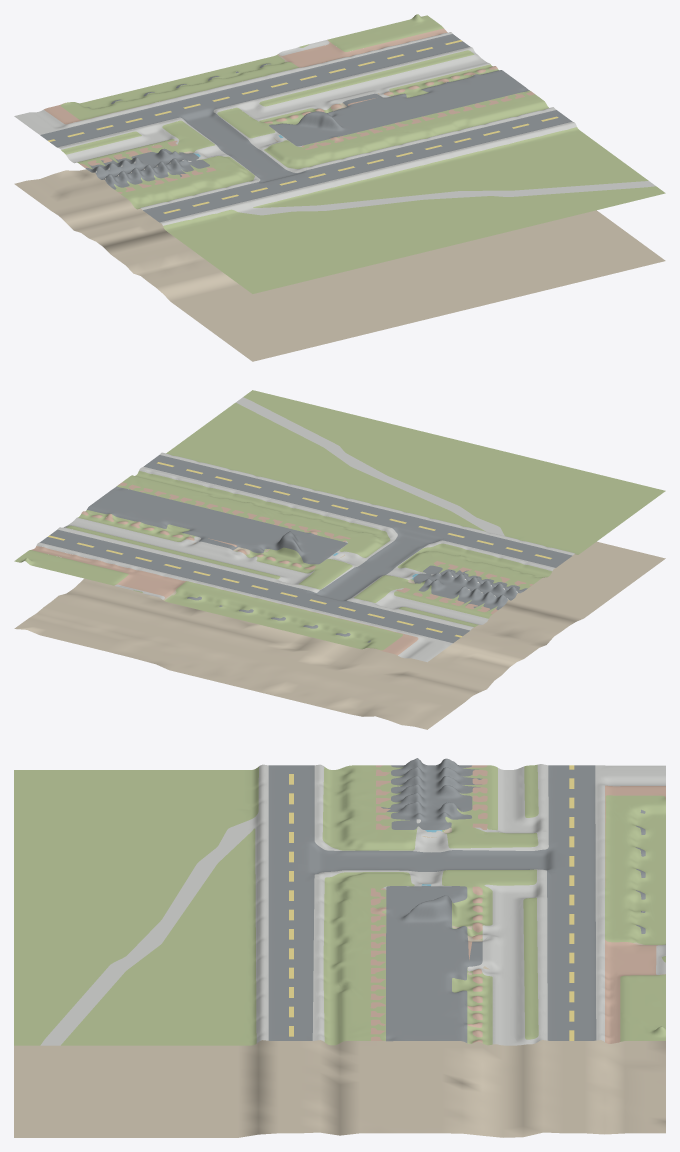
3 renders of one model, top to bottom at view 1: azimuth 30°, elevation 25°; view 2: azimuth 150°, elevation 25°; view 3: azimuth 270°, elevation 25°, orthographic. The views are drawn at different scales.
Parts seen in each view (by area): view 1: s_-6_5__grass, s_-6_5__soil, s_-6_5__asphalt, s_-6_5__stone_paving, s_-6_5__brick_paving, s_-6_5__yellow_marking; view 2: s_-6_5__grass, s_-6_5__soil, s_-6_5__asphalt, s_-6_5__stone_paving, s_-6_5__brick_paving, s_-6_5__yellow_marking; view 3: s_-6_5__grass, s_-6_5__soil, s_-6_5__asphalt, s_-6_5__stone_paving, s_-6_5__brick_paving, s_-6_5__yellow_marking.
Boxes of the visible parts, x1=… form: s_-6_5__grass: x1=60, y1=14, x2=665, y2=293; s_-6_5__soil: x1=14, y1=54, x2=665, y2=361; s_-6_5__asphalt: x1=40, y1=34, x2=572, y2=222; s_-6_5__stone_paving: x1=14, y1=32, x2=655, y2=225; s_-6_5__brick_paving: x1=44, y1=28, x2=534, y2=193; s_-6_5__yellow_marking: x1=48, y1=40, x2=558, y2=213; s_-6_5__grass: x1=14, y1=390, x2=665, y2=650; s_-6_5__soil: x1=14, y1=535, x2=665, y2=729; s_-6_5__asphalt: x1=40, y1=455, x2=572, y2=642; s_-6_5__stone_paving: x1=36, y1=397, x2=575, y2=662; s_-6_5__brick_paving: x1=31, y1=482, x2=532, y2=655; s_-6_5__yellow_marking: x1=48, y1=462, x2=551, y2=637; s_-6_5__grass: x1=14, y1=764, x2=665, y2=1045; s_-6_5__soil: x1=14, y1=827, x2=665, y2=1137; s_-6_5__asphalt: x1=268, y1=758, x2=645, y2=1042; s_-6_5__stone_paving: x1=40, y1=764, x2=665, y2=1045; s_-6_5__brick_paving: x1=370, y1=765, x2=665, y2=1043; s_-6_5__yellow_marking: x1=289, y1=765, x2=574, y2=1040.
Size of the model in its own units: 128 by 24.39 by 128.
